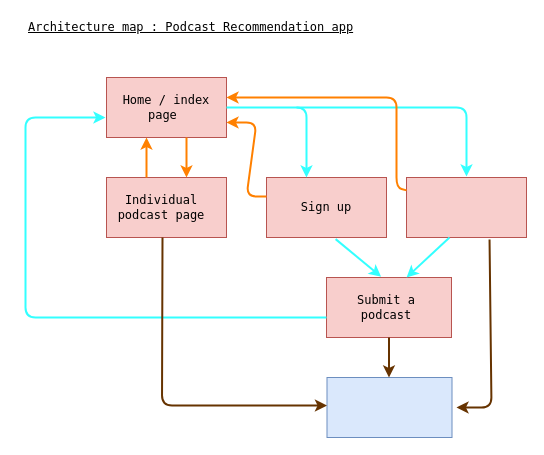
The diagram is 544 pixels wide and 455 high, and some of its shapes have lost their labels. The shapes that lost their labels are listed below. From the top down, each one's centre as x and y in pixels, then its label:
point (466, 207): Log in
point (389, 407): Log out
